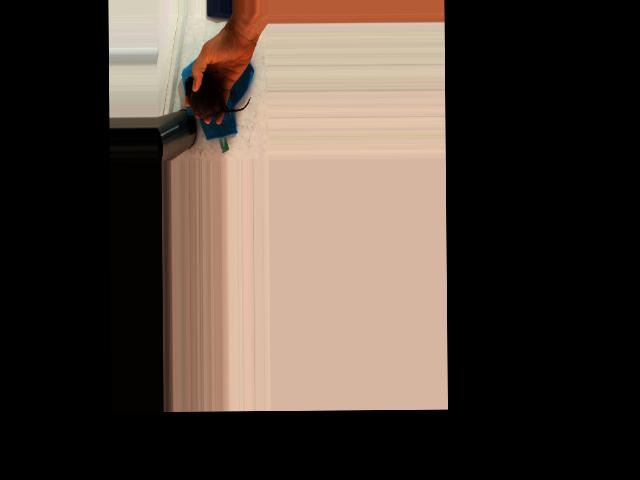beet: (184, 71, 250, 119)
